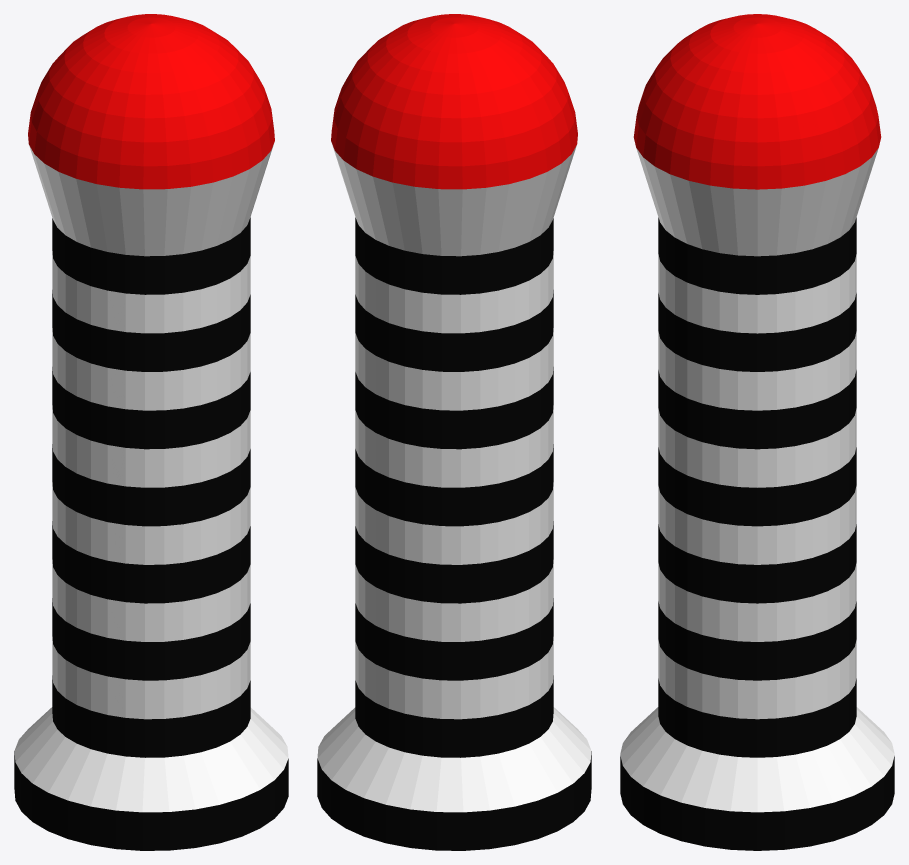
The model's file is RailPole.fbx.
3 renders of one model, left to right at view 1: azimuth 30°, elevation 25°; view 2: azimuth 150°, elevation 25°; view 3: azimuth 270°, elevation 25°, orthographic.
Parts seen in each view (by area): view 1: RailPole; view 2: RailPole; view 3: RailPole.
Boxes of the visible parts, <box> form: RailPole: <box>14,14,288,850</box>; RailPole: <box>317,14,591,850</box>; RailPole: <box>620,14,894,850</box>.
Bounding box in the file's own units: 86.04 × 266 × 86.04.
